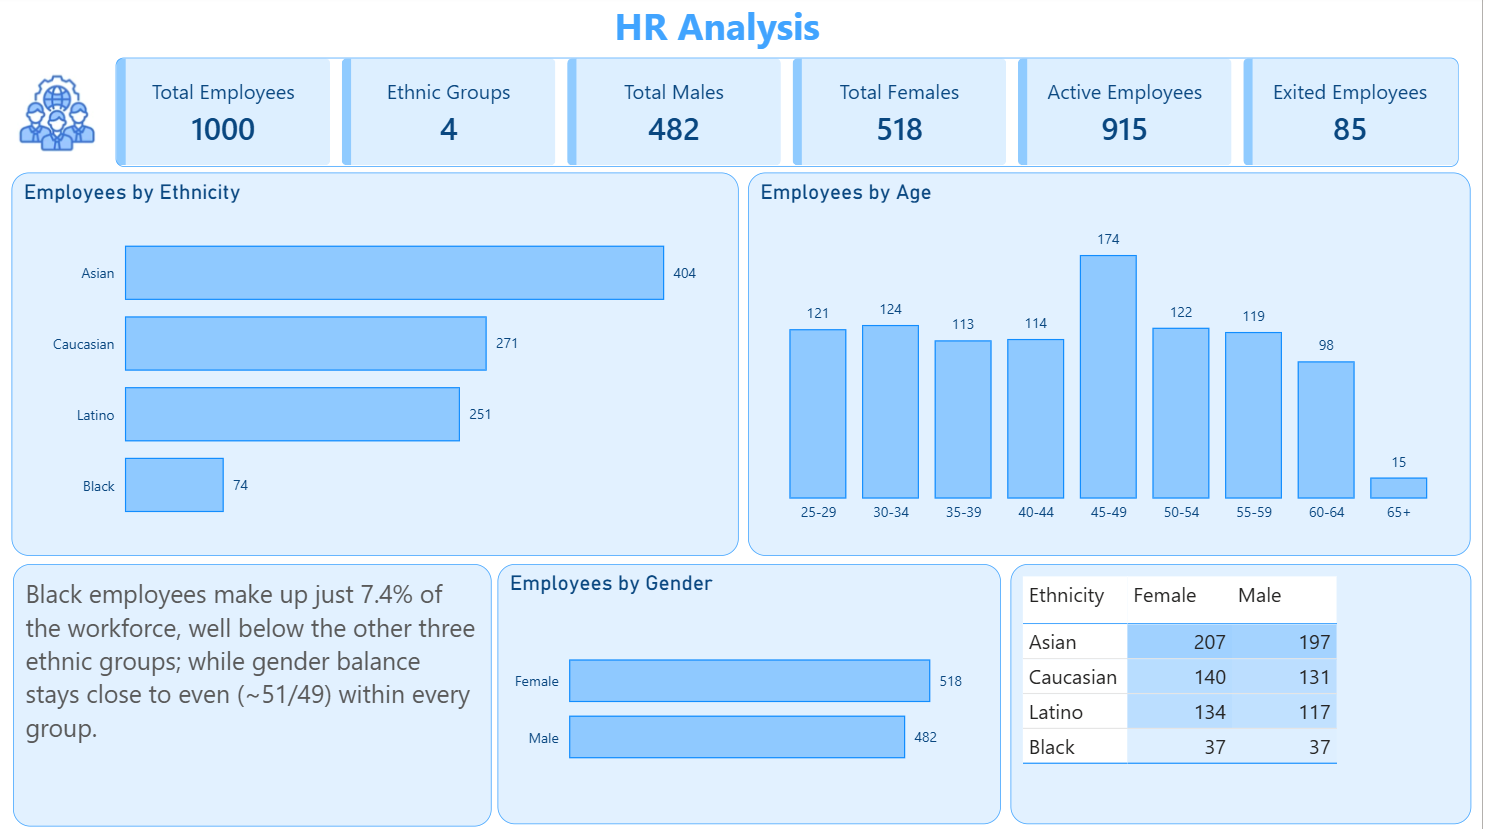

This screenshot's page, from the dashboard's own definition file:
{"tool":"powerbi","page":{"name":"Workforce Diversity","canvas":[1280,720],"ordinal":0},"visuals":[{"type":"clusteredBarChart","title":"Employees by Ethnicity","fields":{"Category":["Dim_Gender.Ethnicity"],"Y":["Measures_Table.Total Employees"]},"box":[14.6,154.3,626,330],"z":0},{"type":"clusteredBarChart","title":"Employees by Gender","fields":{"Y":["Measures_Table.Total Employees"],"Category":["Dim_Gender.Gender"]},"box":[433.1,490.6,433.1,224.1],"z":1000},{"type":"pivotTable","fields":{"Rows":["Dim_Gender.Ethnicity"],"Columns":["Dim_Gender.Gender"],"Values":["Measures_Table.Total Employees"]},"box":[873.7,490.6,396.7,224.1],"z":2000},{"type":"clusteredColumnChart","title":"Employees by Age","fields":{"Y":["Measures_Table.Total Employees"],"Category":["Fact_Employees.Age Band"]},"box":[647.7,154.3,622,330],"z":3000},{"type":"textbox","box":[15.1,490.6,412,226],"z":4000},{"type":"image","box":[15.6,51.5,71.4,100.2],"z":5000},{"type":"textbox","box":[398.8,0,445.4,53.9],"z":6000},{"type":"cardVisual","fields":{"Data":["Measures_Table.Total Employees","Measures_Table.Ethnic Groups","Measures_Table.Total Males","Measures_Table.Total Females","Measures_Table.Active Employees","Measures_Table.Exited Employees"]},"box":[85.9,37.8,1193.6,128],"z":7000}]}

Visuals, with their boxes in screenshot pixels (x1, y1, x2, y2), scaled from the page's 1280x720 canvas onto the 1485x829 screenshot:
"Employees by Ethnicity" clusteredBarChart: x1=17 y1=178 x2=743 y2=558
"Employees by Gender" clusteredBarChart: x1=502 y1=565 x2=1005 y2=823
pivotTable - Dim_Gender.Ethnicity x Dim_Gender.Gender: x1=1014 y1=565 x2=1474 y2=823
"Employees by Age" clusteredColumnChart: x1=751 y1=178 x2=1473 y2=558
textbox: x1=18 y1=565 x2=496 y2=825
image: x1=18 y1=59 x2=101 y2=175
textbox: x1=463 y1=0 x2=979 y2=62
cardVisual - Measures_Table.Total Employees x Measures_Table.Ethnic Groups: x1=100 y1=44 x2=1484 y2=191
